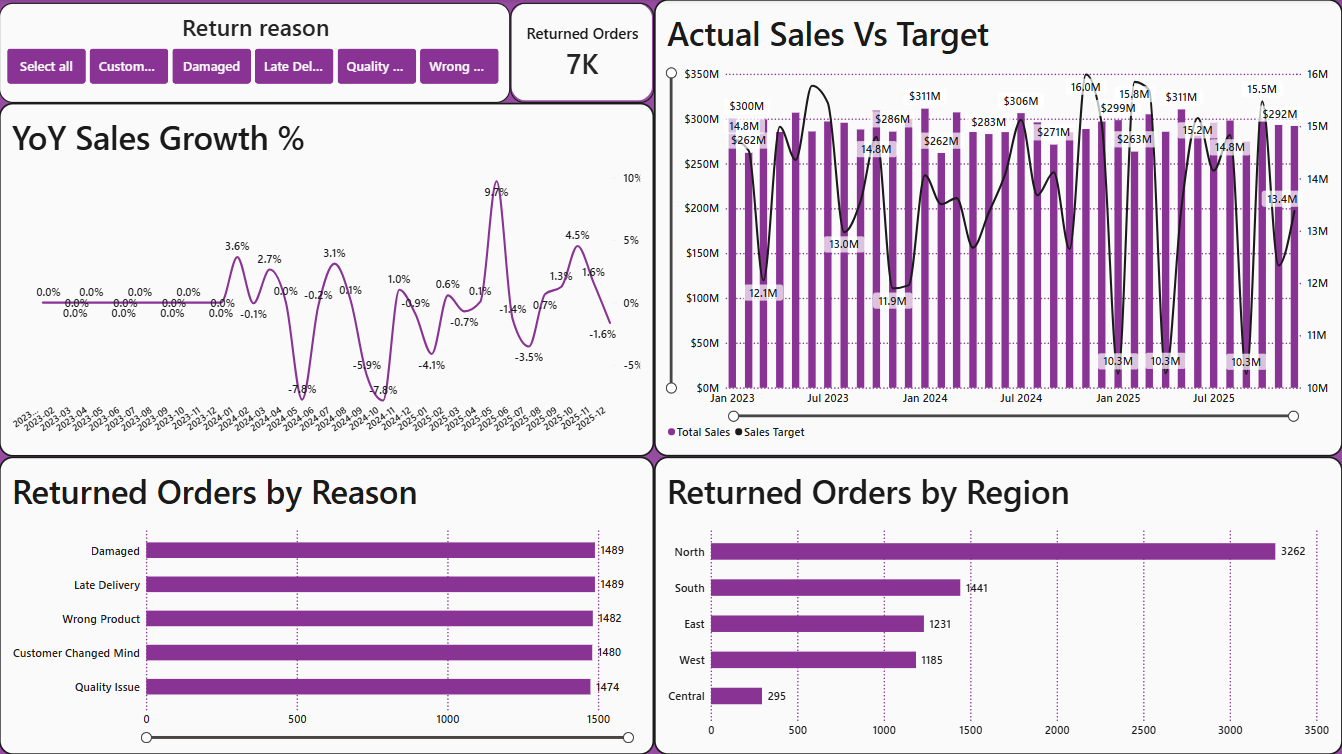

This screenshot's page, from the dashboard's own definition file:
{"tool":"powerbi","page":{"name":"Return Analysis","canvas":[1920,1080],"ordinal":3},"visuals":[{"type":"lineChart","title":"YoY Sales Growth %","fields":{"Category":["Dim_Date.Year-Month"],"Y2":["Fact_Sales.YoY Sales %"]},"box":[0,148.2,935.7,505.4],"z":0},{"type":"lineClusteredColumnComboChart","title":"Actual Sales Vs Target","fields":{"Category":["Month.MonthDate"],"Y":["Fact_Sales.Total Sales"],"Y2":["Sales_Targets.Sales Target"]},"box":[935.7,0,983.9,653.6],"z":1000},{"type":"barChart","title":"Returned Orders by Reason ","fields":{"Category":["Fact_Returns.ReturnReason"],"Y":["Fact_Returns.Returned Orders"]},"box":[0,653.6,935.7,426.8],"z":4000},{"type":"advancedSlicerVisual","fields":{"Values":["Fact_Returns.ReturnReason"]},"box":[0,5.4,730.4,142.9],"z":5001},{"type":"cardVisual","fields":{"Data":["Fact_Returns.Returned Orders"]},"box":[730.4,5.4,205.4,142.9],"z":5002},{"type":"barChart","title":"Returned Orders by Region","fields":{"Category":["Dim_Stores.Column4"],"Y":["Fact_Returns.Returned Orders"]},"box":[935.7,653.6,984,426],"z":5003}]}

Visuals, with their boxes in screenshot pixels (x1, y1, x2, y2), scaled from the page's 1920x1080 canvas onto the 1342x754 screenshot:
"YoY Sales Growth %" lineChart: [0,103,654,456]
"Actual Sales Vs Target" lineClusteredColumnComboChart: [654,0,1341,456]
"Returned Orders by Reason " barChart: [0,456,654,753]
advancedSlicerVisual - Fact_Returns.ReturnReason: [0,4,511,104]
cardVisual - Fact_Returns.Returned Orders: [511,4,654,104]
"Returned Orders by Region" barChart: [654,456,1341,753]
